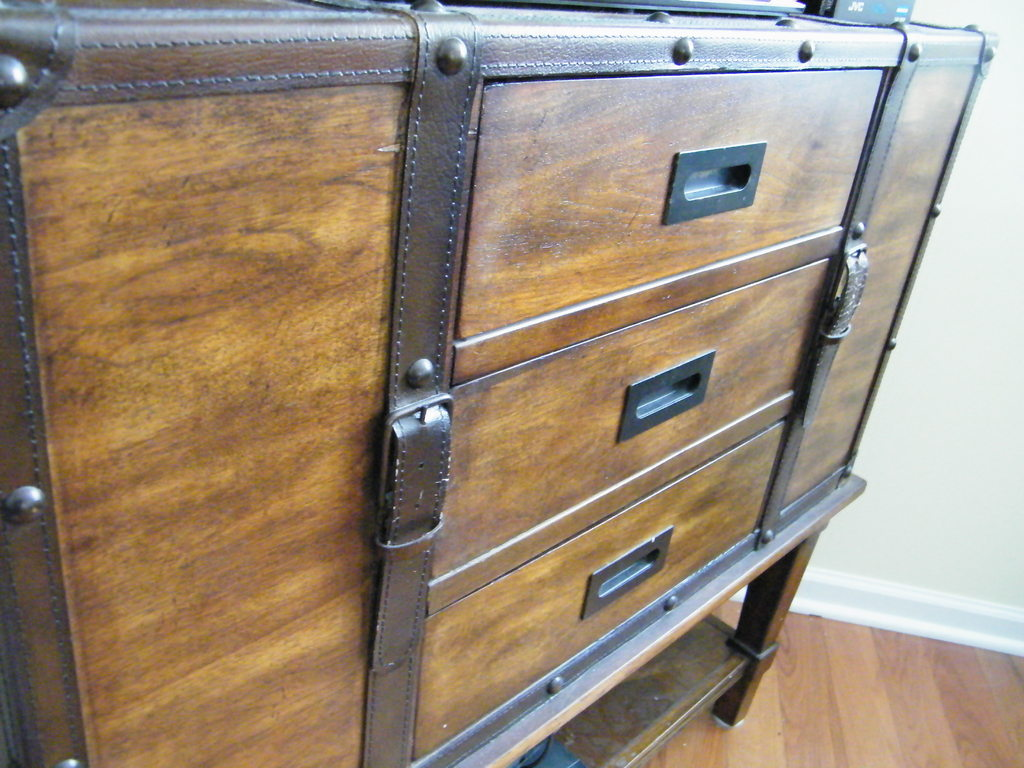cabinet door: (481, 68, 850, 233), (434, 310, 803, 442), (451, 487, 756, 629)
handle: (654, 130, 766, 205), (605, 365, 715, 426), (578, 543, 676, 601)
